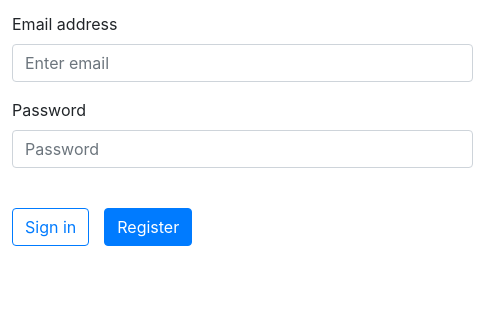
Test: Tests of Log in form › Show error for log in - no email found or wrong password
Type "haipham_123@gmail.com" into the field labelled "Email address".
click(242, 63); type("haipham_123@gmail.com")  # box [12, 44, 473, 82]
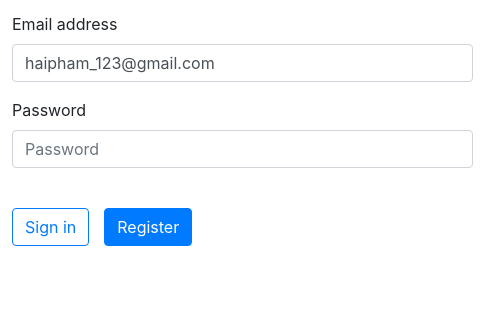
Click the button "Sign in".
click(51, 227)  # box [12, 208, 89, 246]
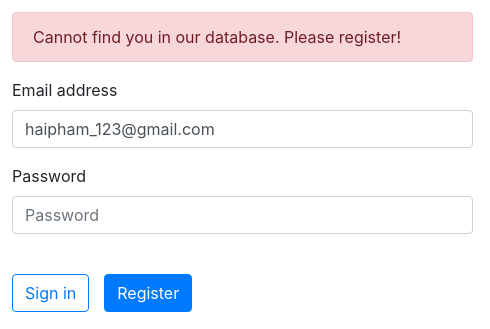
Now the message reads "Cannot find you in our database. Please register!", box [33, 27, 401, 47]
Replace the text in the field labelled "Email address" with "haipham@gmail.com" at (242, 129), box [12, 110, 473, 148]
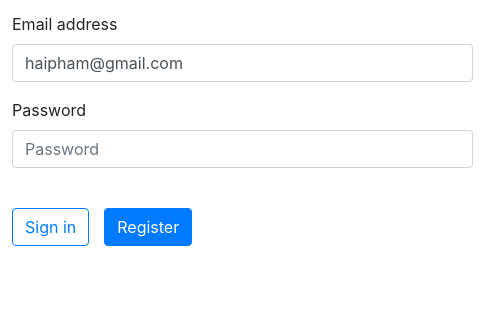
Type "111" into the password field labelled "Password".
click(242, 149); type("111")  # box [12, 130, 473, 168]
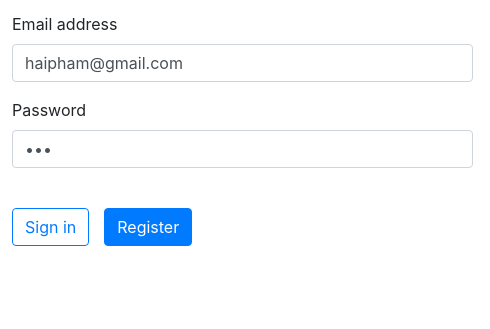
Click the button "Sign in".
click(51, 227)  # box [12, 208, 89, 246]
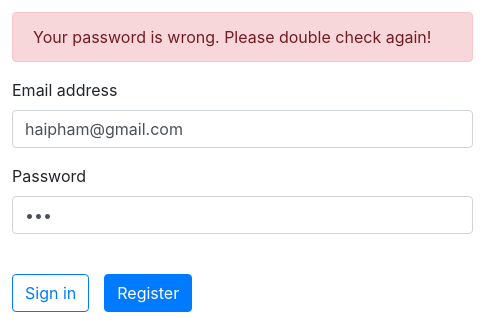
Now the message reads "Your password is wrong. Please double check again!", box [33, 27, 431, 47]
